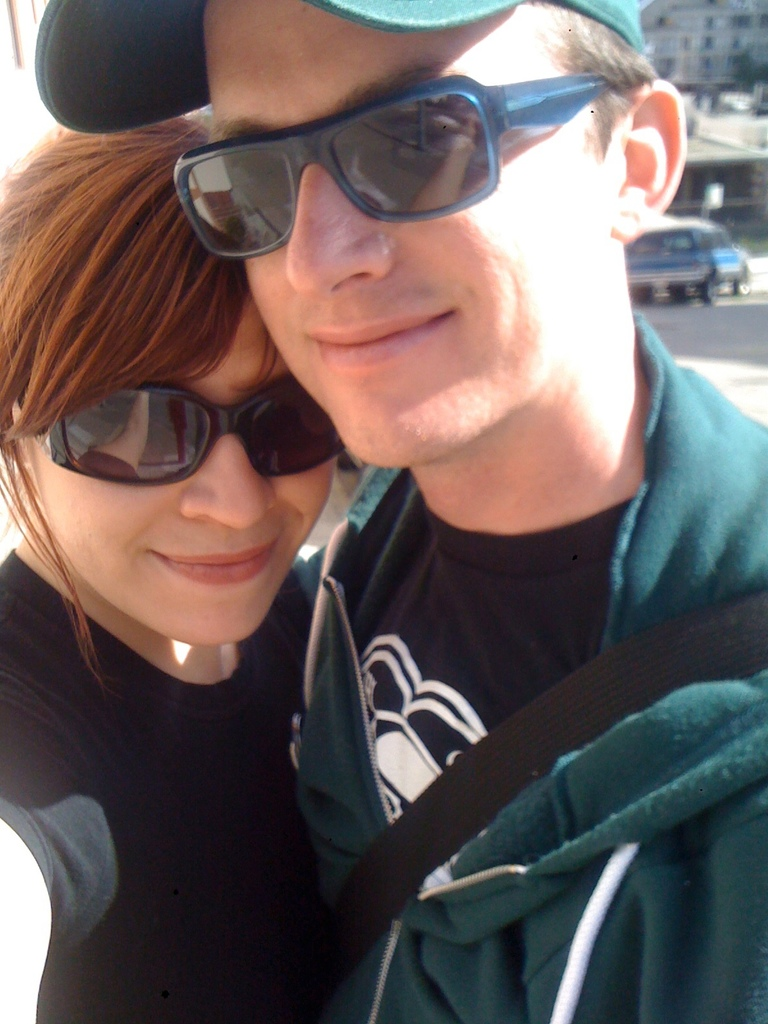Car: (627, 223, 748, 306)
